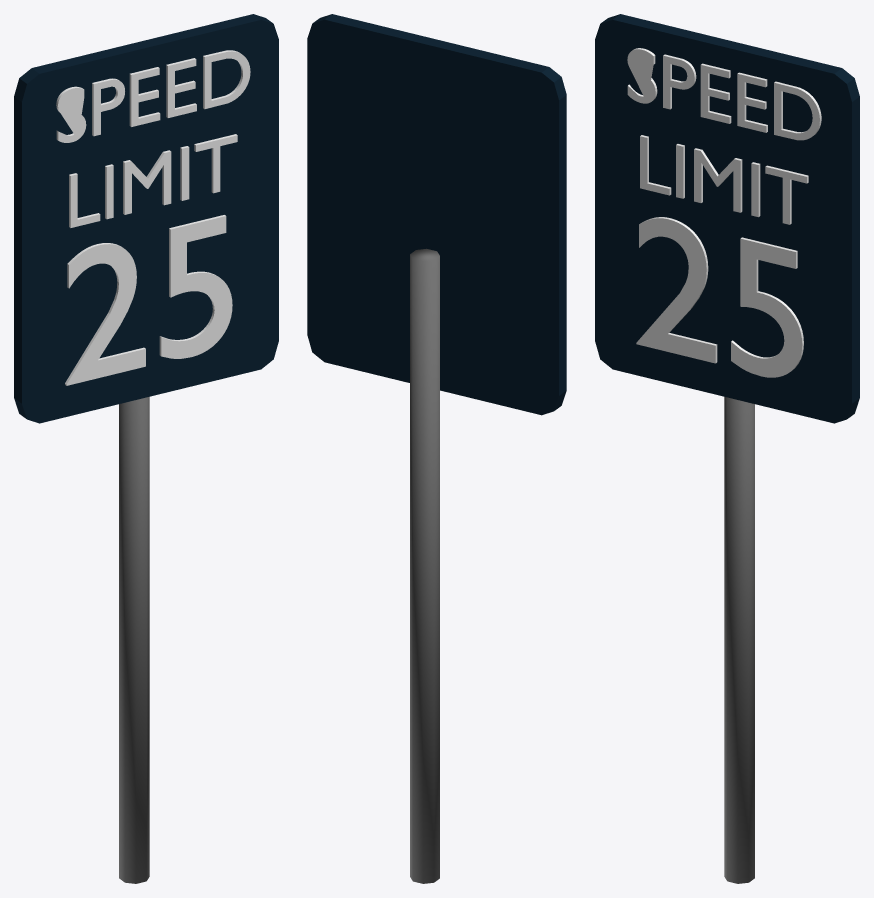
File: Prop_StreetSign_Speed_25.fbx
3 renders of one model, left to right at view 1: azimuth 30°, elevation 25°; view 2: azimuth 150°, elevation 25°; view 3: azimuth 330°, elevation 25°, orthographic. The views are drawn at different scales.
Visible parts, largest first — view 1: Prop_StreetSign_Speed_25; view 2: Prop_StreetSign_Speed_25; view 3: Prop_StreetSign_Speed_25.
Boxes of the visible parts, box(x1,y1,x2,y2) form: Prop_StreetSign_Speed_25: box(14, 14, 278, 883); Prop_StreetSign_Speed_25: box(307, 14, 566, 883); Prop_StreetSign_Speed_25: box(595, 14, 859, 883).
Size of the model in its own units: 140 by 438 by 23.65.
